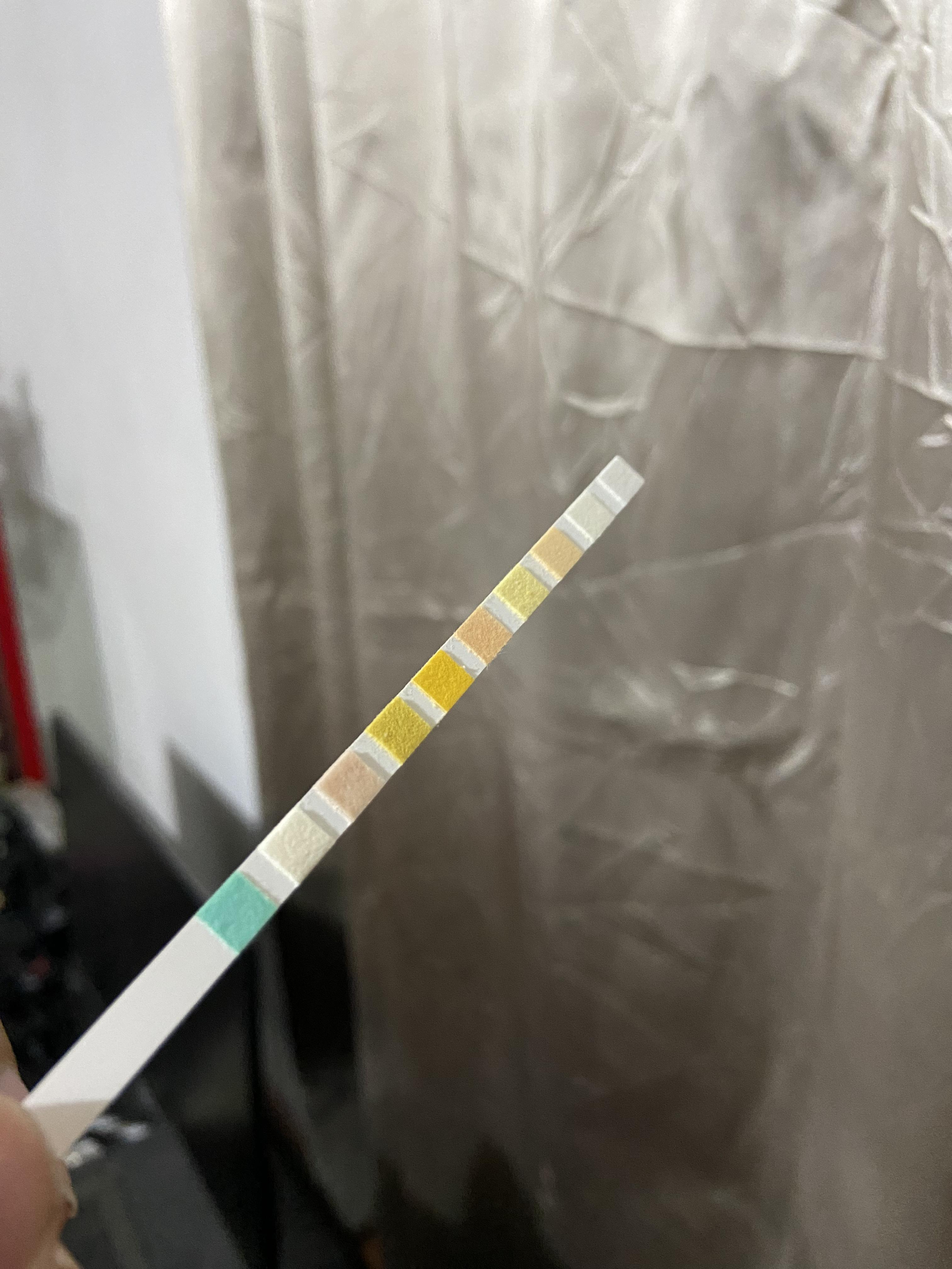Bilirubin: (275, 826, 319, 861)
Blood: (426, 664, 460, 694)
Glucose: (217, 892, 266, 926)
Ketone: (329, 767, 370, 803)
Leukocytes: (606, 468, 635, 488)
Nitrite: (572, 502, 606, 525)
Protein: (504, 578, 538, 603)
SpGravity: (381, 711, 417, 746)
Urobilinogen: (537, 541, 574, 562)
pH: (466, 619, 498, 647)
strip: (27, 455, 648, 1139)
